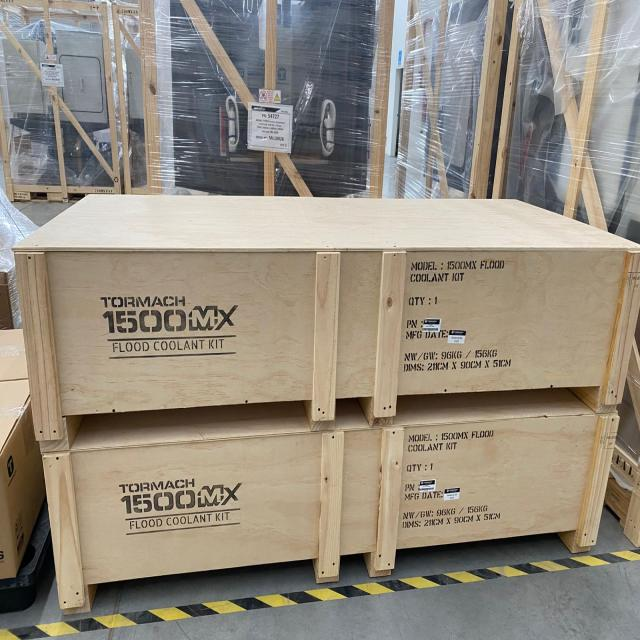flood: (14, 195, 640, 441), (42, 387, 618, 612)
